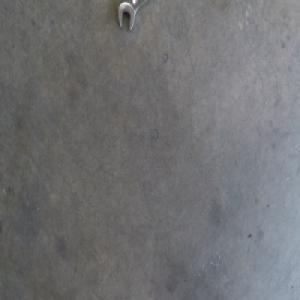Wrench: (117, 0, 147, 31)
